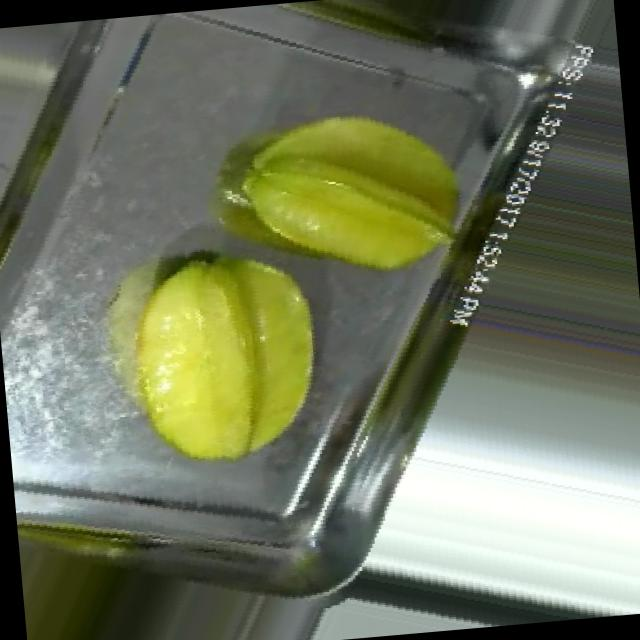fruit: (60, 201, 378, 504), (187, 51, 500, 332), (429, 134, 640, 430)
